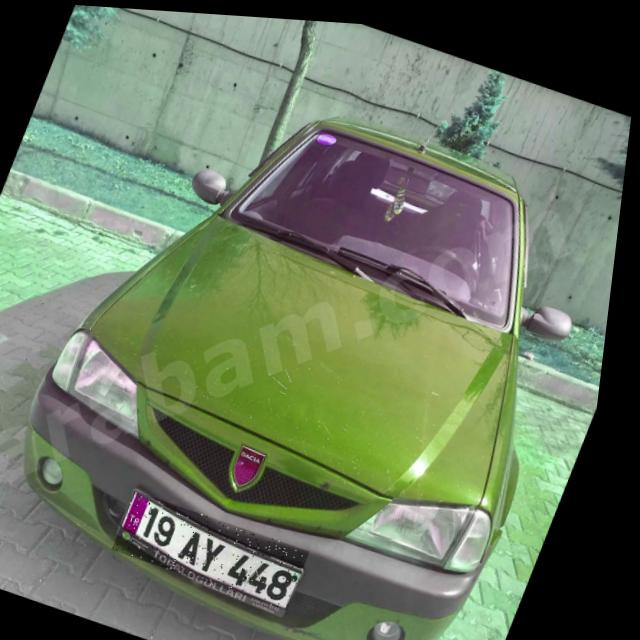license_plate: (120, 487, 327, 605)
